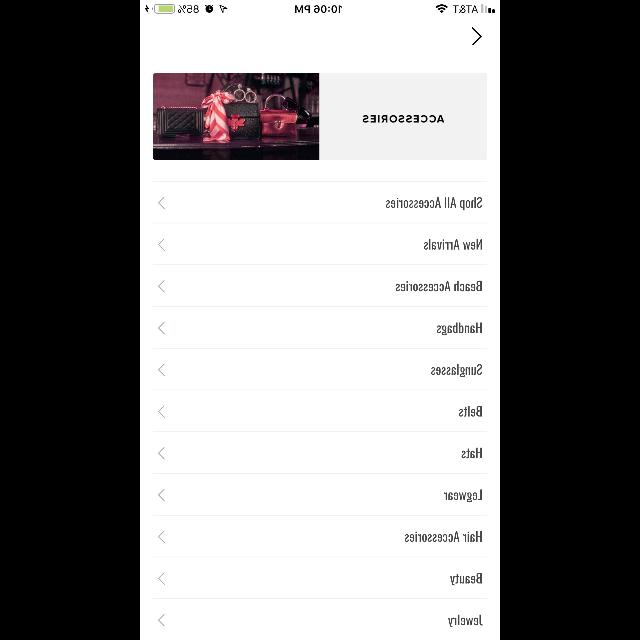icon: (472, 27, 482, 45), (158, 614, 165, 626), (158, 573, 165, 585), (158, 531, 165, 543), (158, 489, 165, 501), (158, 447, 165, 459), (158, 406, 165, 418), (158, 364, 165, 376), (158, 322, 165, 334), (158, 280, 165, 292), (158, 239, 165, 251), (158, 197, 165, 209)
image: (153, 74, 319, 160)
text: (386, 198, 482, 210), (395, 280, 481, 292), (404, 532, 482, 542), (431, 364, 482, 378), (423, 238, 481, 250), (362, 115, 444, 123), (436, 322, 482, 336), (448, 614, 482, 628), (443, 490, 481, 502), (450, 572, 482, 586), (458, 406, 482, 416), (461, 448, 481, 458)
uppertaskbar: (140, 0, 500, 14)
